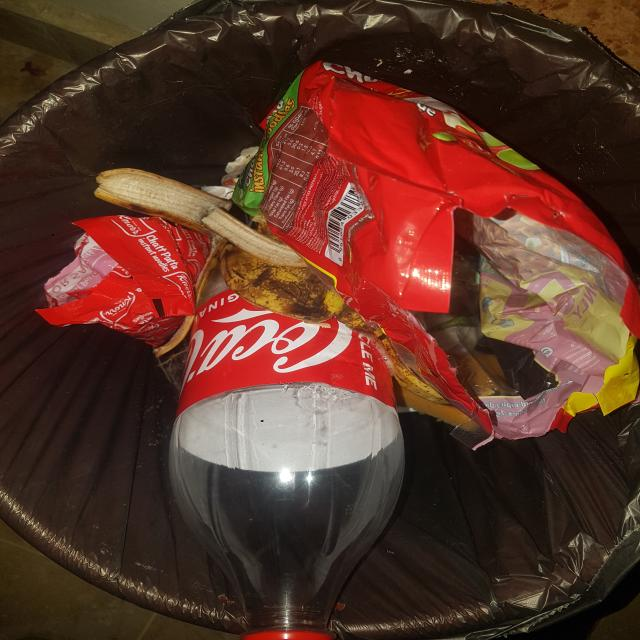electronic: (266, 62, 640, 436)
general: (166, 285, 407, 636)
paper: (89, 158, 340, 326)
